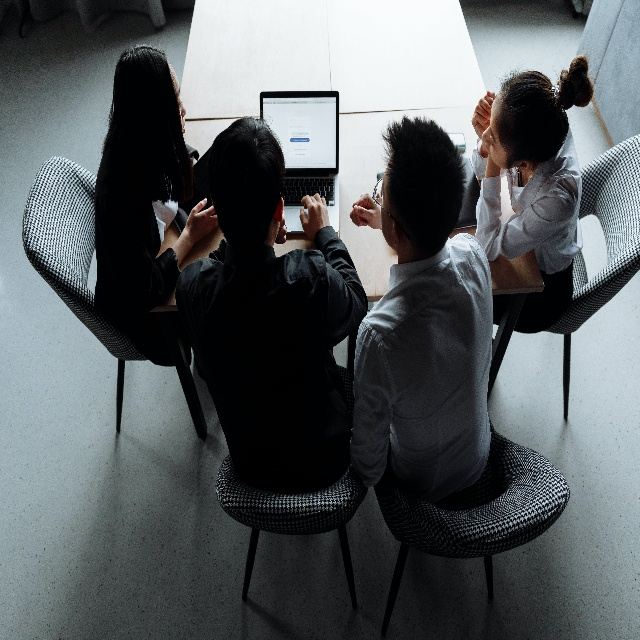Gafas: (371, 176, 411, 241)
Sin_guantes: (185, 198, 219, 244), (299, 190, 329, 239), (347, 192, 383, 232), (476, 91, 497, 146), (471, 92, 495, 131), (275, 208, 287, 245)
